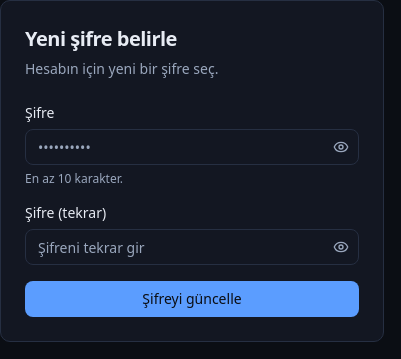
Test: ResetPasswordForm › başarıda login sayfasına yönlendirir ve başarı mesajını duyurur
In the password field labelled "Şifre": (192, 147) [25, 129, 359, 165], type "0123456789"
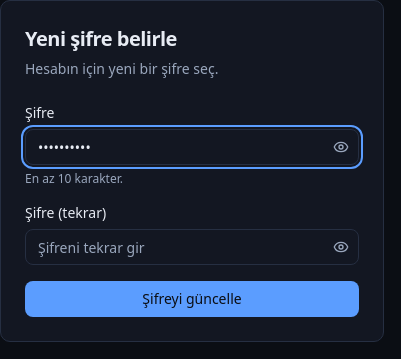
In the password field labelled "Şifre (tekrar)": (192, 247) [25, 229, 359, 265], type "0123456789"
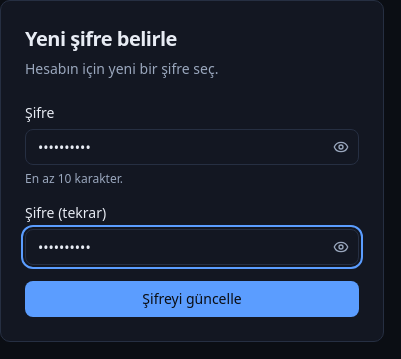
Click the button "Şifreyi güncelle": (192, 299) [25, 281, 359, 317]
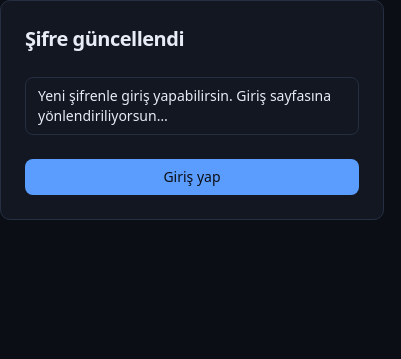
Result: the heading "Şifre güncellendi" is shown at [25, 25, 184, 52]
Result: the message shows "Yeni şifrenle giriş yapabilirsin" at [38, 86, 331, 125]
